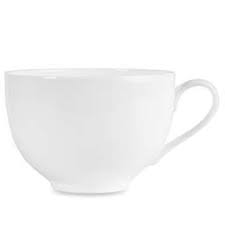cup: (2, 62, 225, 199)
